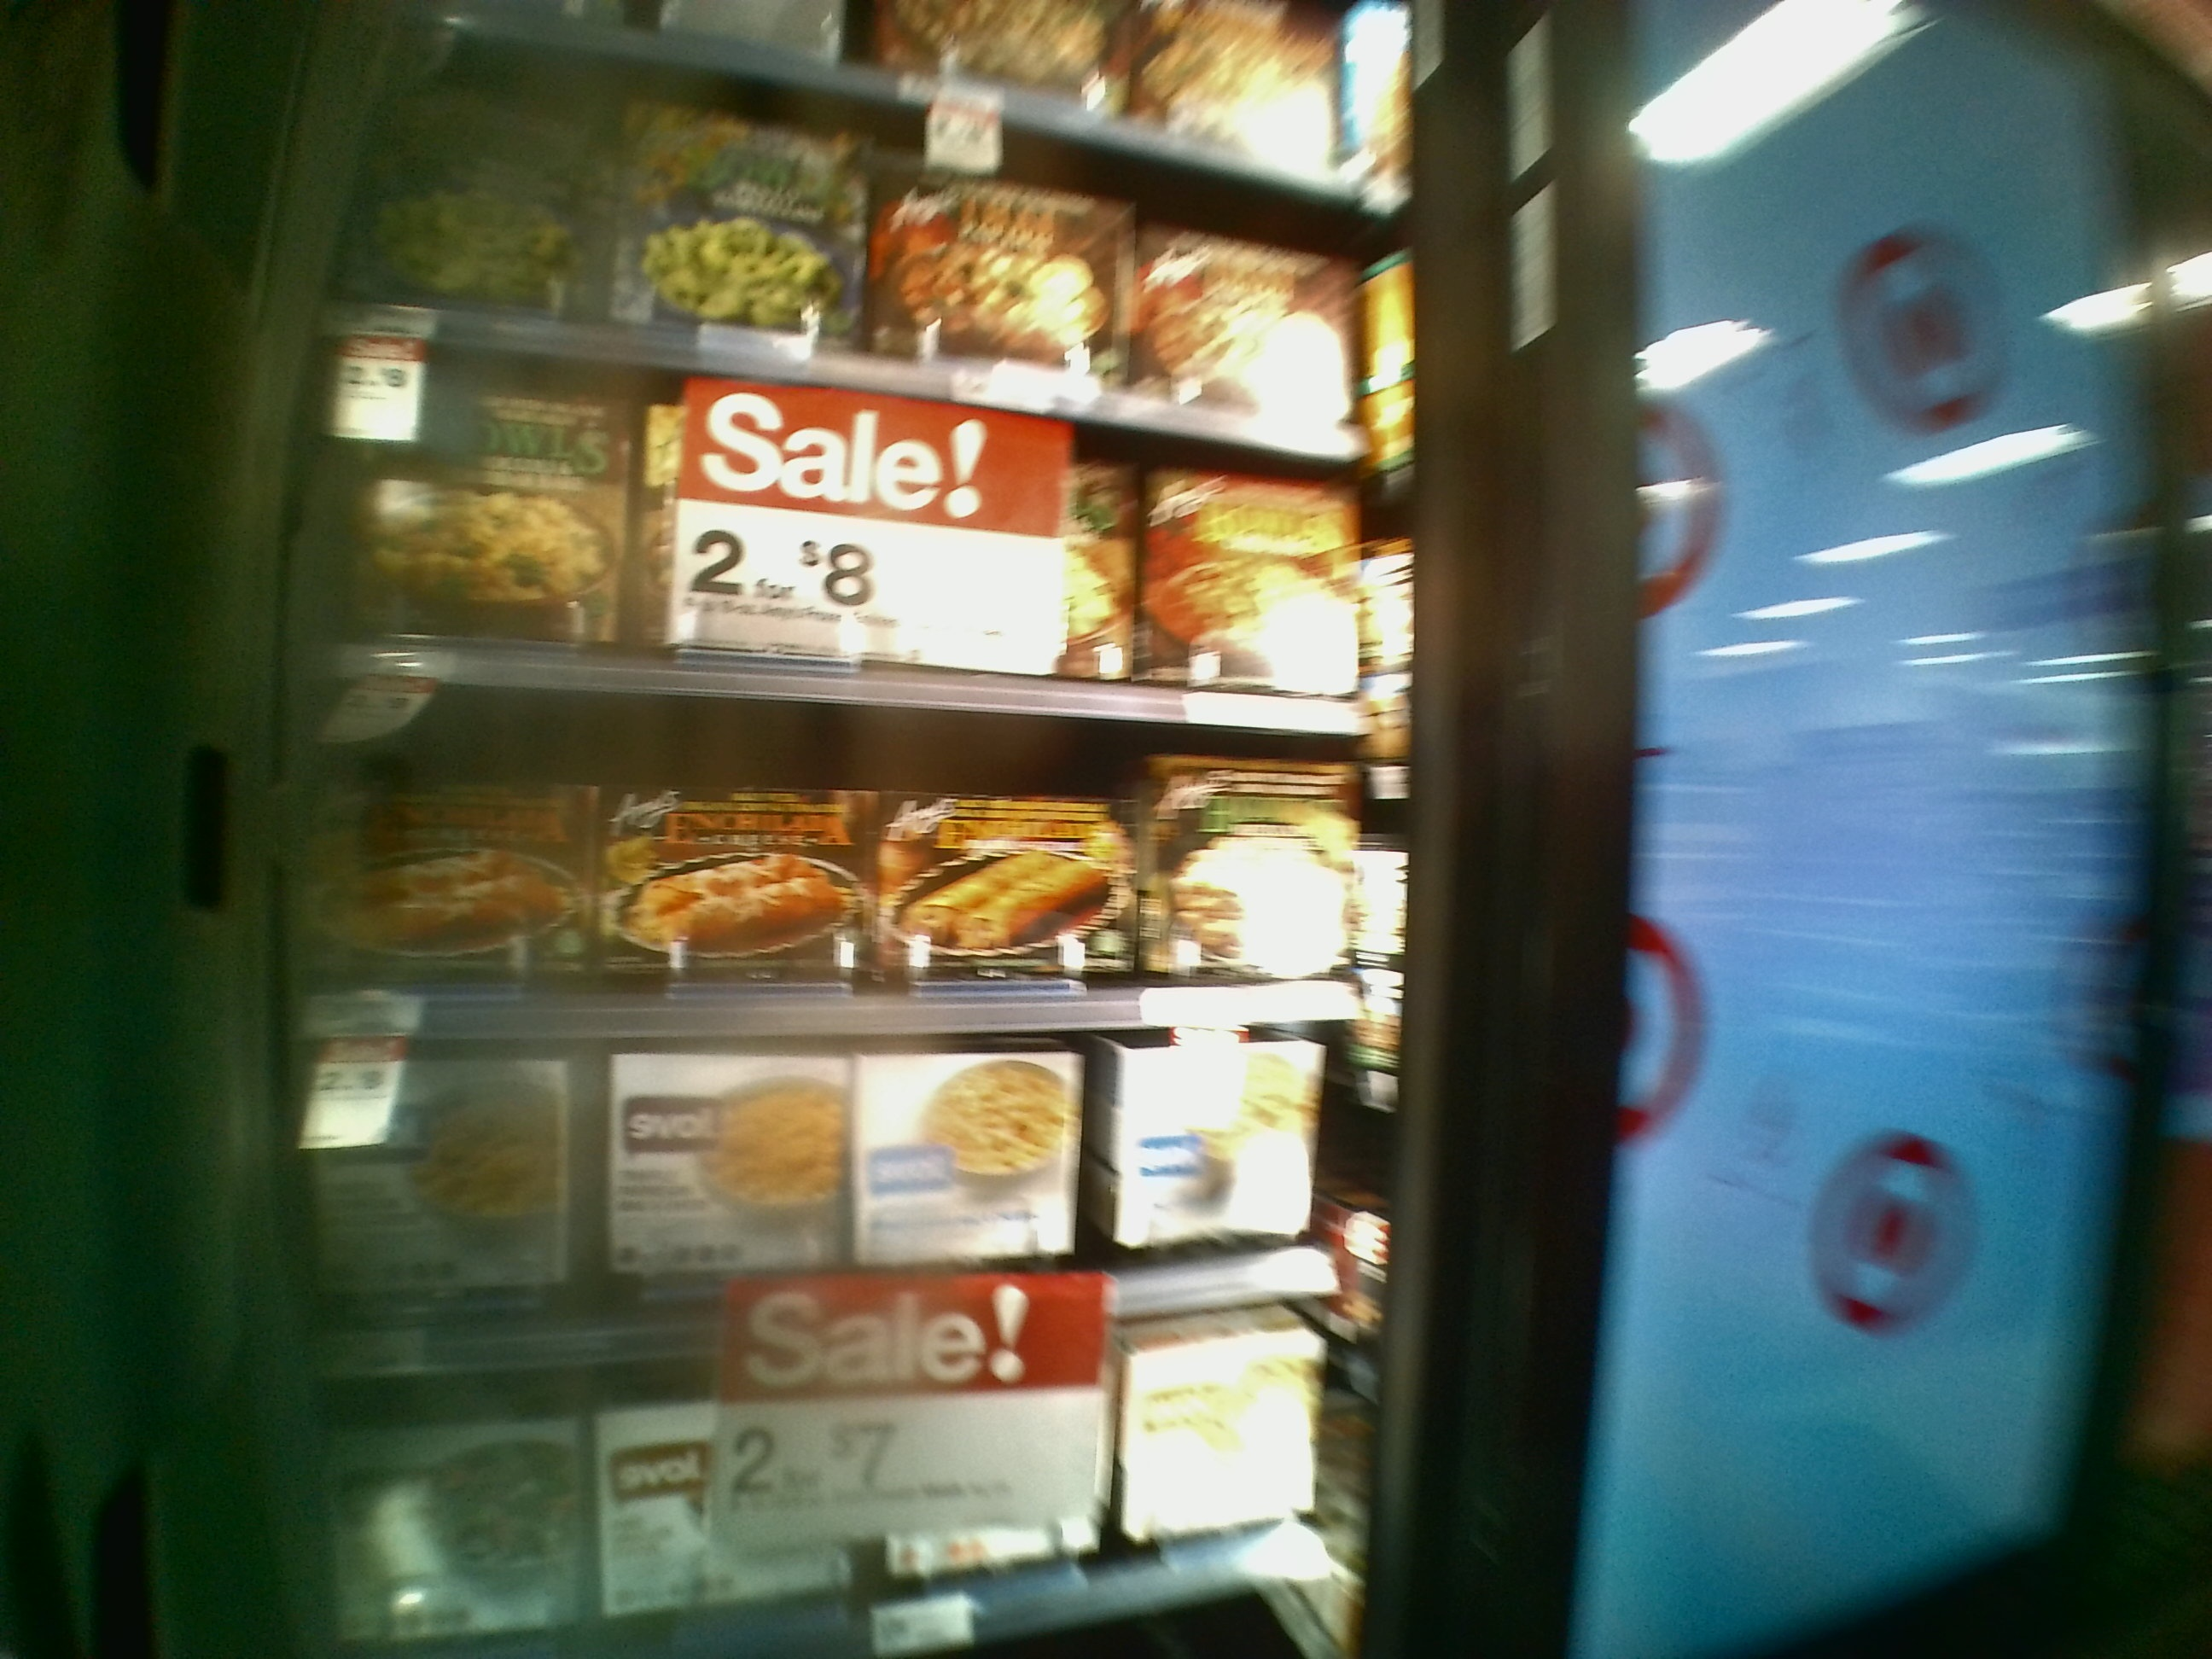shelf: (287, 720, 1378, 1040), (301, 1039, 1364, 1364), (327, 401, 1407, 704), (327, 1377, 1364, 1636)
